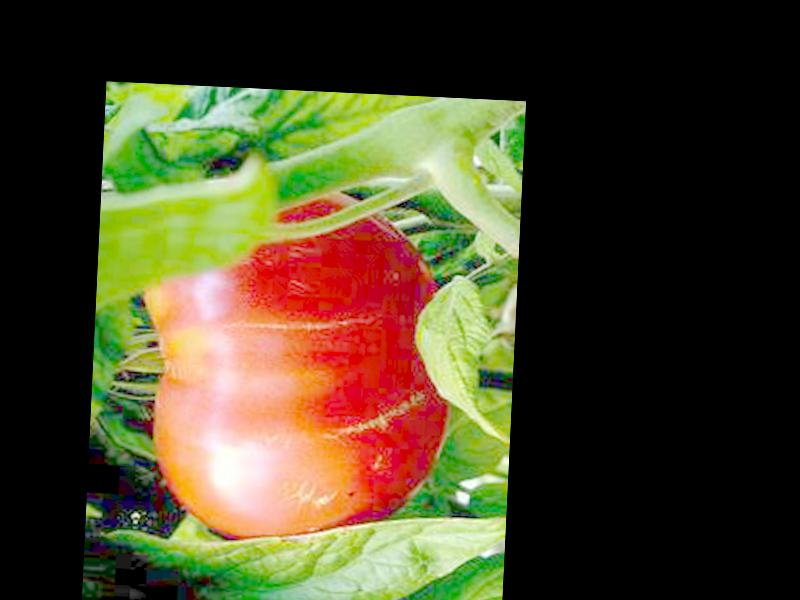Tomato: (131, 184, 457, 552)
